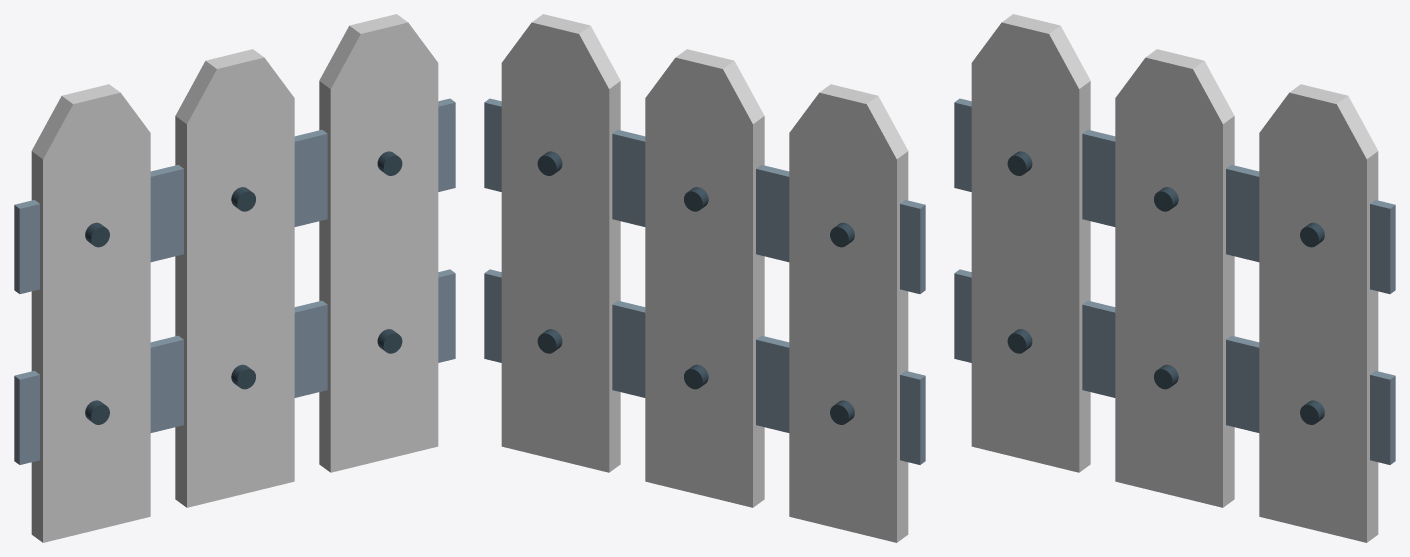
File: fence.fbx
3 views of the same model, side by side, from view 1: azimuth 30°, elevation 25°; view 2: azimuth 150°, elevation 25°; view 3: azimuth 330°, elevation 25° (orthographic).
Visible parts, largest first — view 1: Vertical, Horizontal, Detail; view 2: Vertical, Horizontal, Detail; view 3: Vertical, Horizontal, Detail.
Part boxes in pixels (box(x1,y1,x2,y2)): Vertical: box(31, 14, 438, 542); Horizontal: box(14, 98, 455, 464); Detail: box(85, 151, 402, 424); Vertical: box(501, 14, 908, 542); Horizontal: box(484, 98, 925, 464); Detail: box(537, 151, 854, 424); Vertical: box(971, 14, 1378, 542); Horizontal: box(954, 98, 1395, 464); Detail: box(1007, 151, 1324, 424).
Bounding box in the file's own units: 169 × 1808 × 1710.
